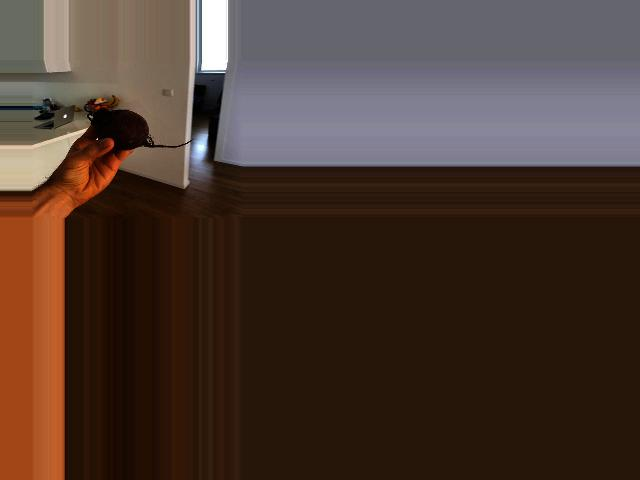beet: (88, 108, 193, 150)
